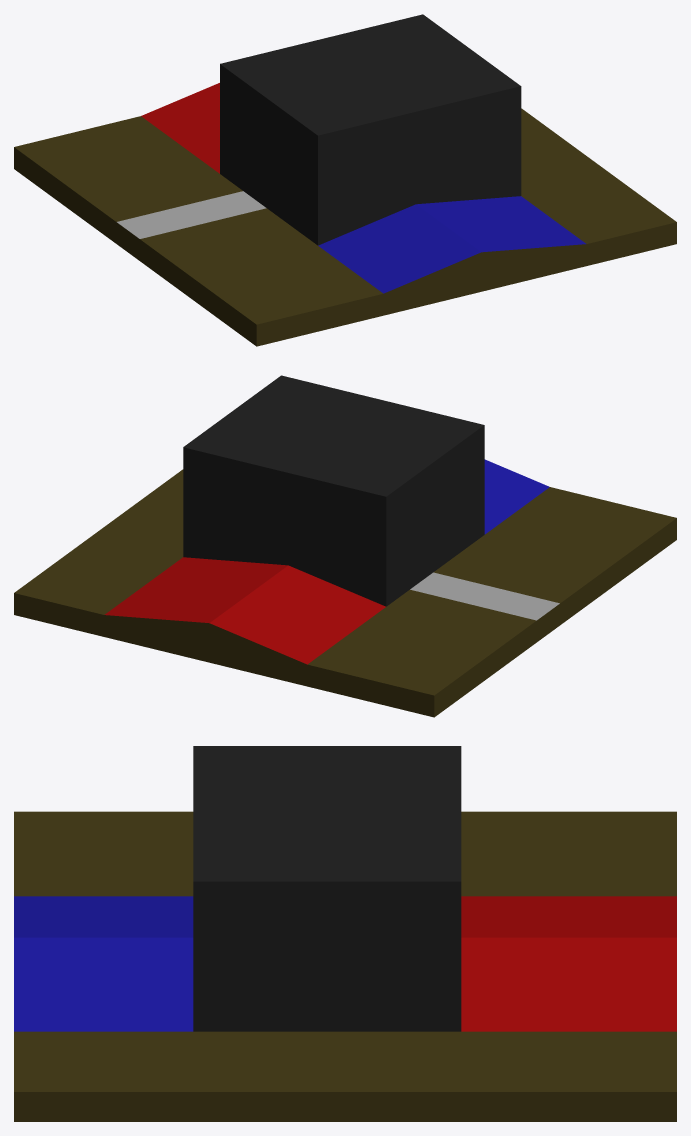
Rendered from flatTrack.obj.
3 renders of one model, top to bottom at view 1: azimuth 30°, elevation 25°; view 2: azimuth 150°, elevation 25°; view 3: azimuth 270°, elevation 25°, orthographic. The views are drawn at different scales.
Parts seen in each view (by area): view 1: Cube; view 2: Cube; view 3: Cube.
Boxes of the visible parts, x1=… form: Cube: x1=14, y1=14, x2=676, y2=346; Cube: x1=14, y1=375, x2=676, y2=717; Cube: x1=14, y1=746, x2=676, y2=1121.
Bounding box in the file's own units: 400 × 120 × 400.
